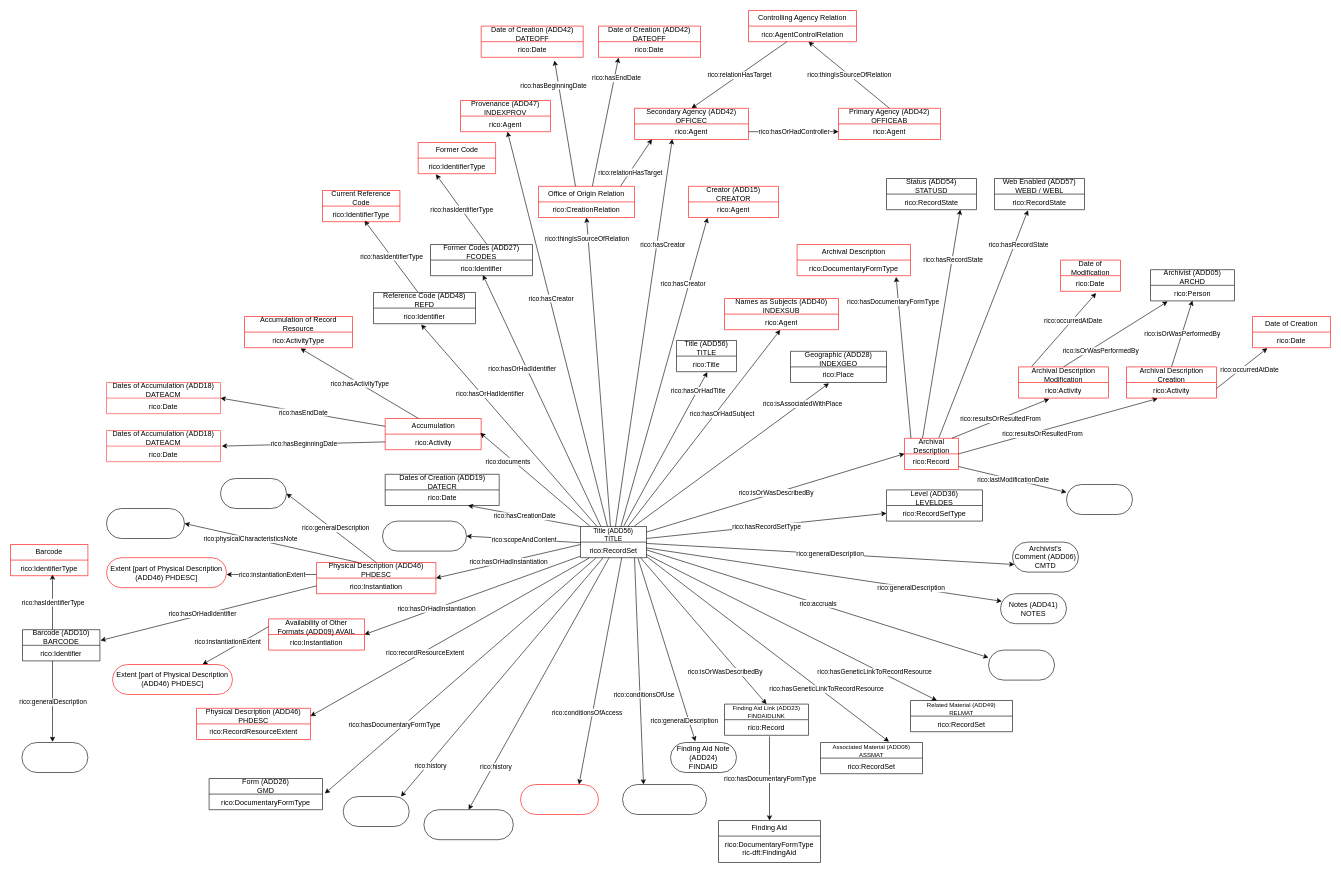
Some shapes in this 1341 by 875 pixel diagram are drawn without their labels. Each missing label, with the centre of its shape:
Access Restrictions (ADD01) RESTRTX / REST: pixel 559 799
Accruals (ADD02) ACCRUAL: pixel 1021 665
Barcode Note (ADD12) BNOTE: pixel 54 757
Custodial History (ADD17) CUSTOD: pixel 376 811
Date Modified (ADD21) MODDATE: pixel 1099 499
How to Order (ADD31) HOWTO: pixel 253 493
Immediate Source of Acquisition (ADD33) ISA: pixel 468 824
Physical Condition (ADD45) PHYSCO: pixel 145 523
Scope and Content (ADD51) SCOPE: pixel 424 535
Terms Governing Use (ADD55) TGU: pixel 664 799
